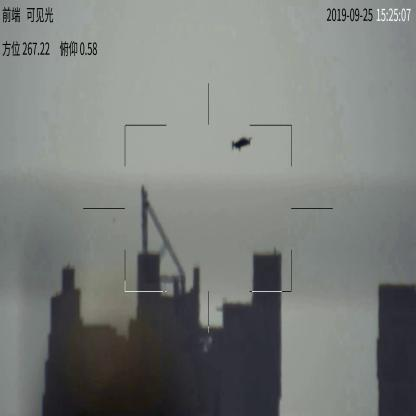uav: (231, 137, 252, 153)
